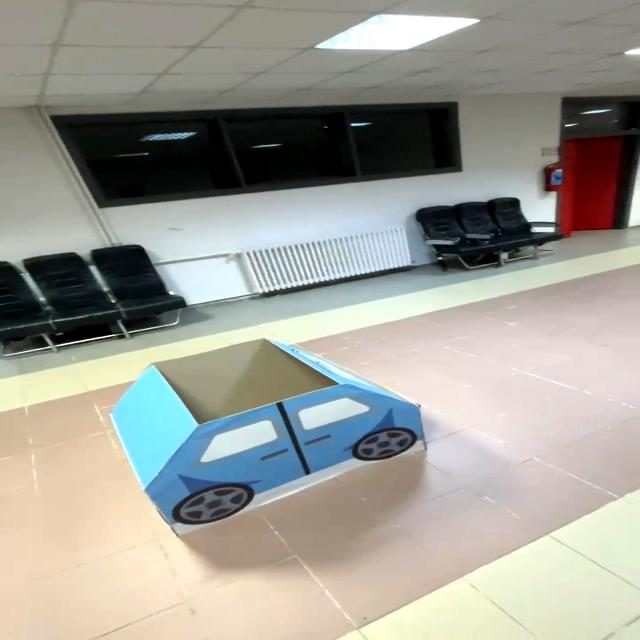blue_car: (43, 322, 477, 546)
